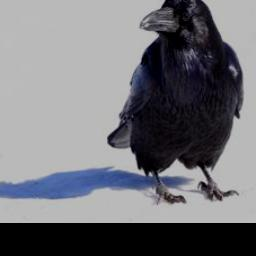Crow: (104, 0, 244, 205)
